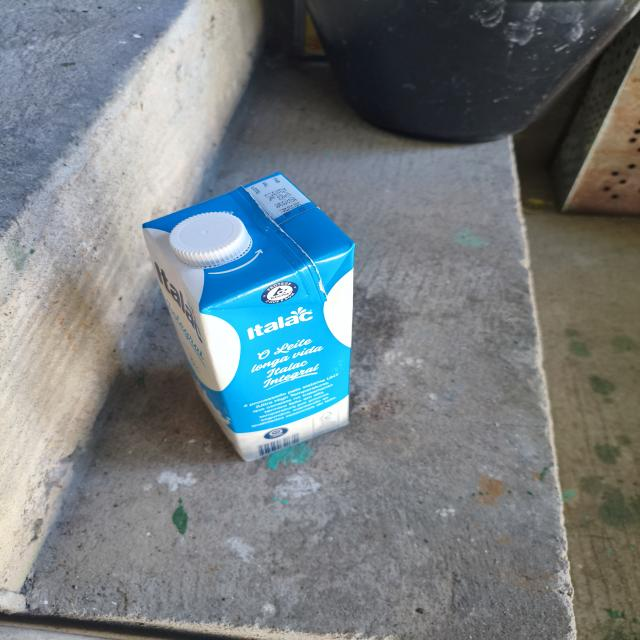Caixa de Leite: (134, 160, 363, 466)
